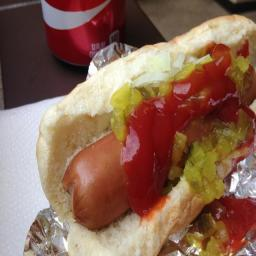hotdog: (37, 6, 256, 256)
